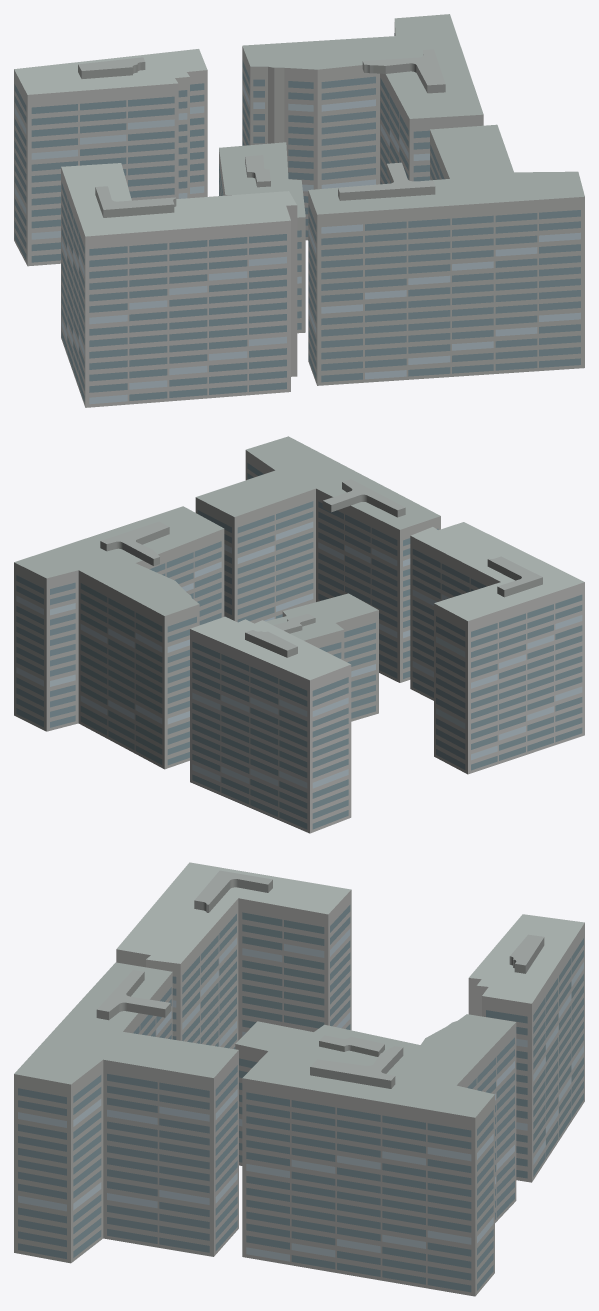
Rendered from apt-a13811001.glb.
3 views of the same model, one above another, from view 1: azimuth 30°, elevation 25°; view 2: azimuth 150°, elevation 25°; view 3: azimuth 270°, elevation 25° (orthographic). The views are drawn at different scales.
Parts seen in each view (by area): view 1: apt-a13811001; view 2: apt-a13811001; view 3: apt-a13811001.
Boxes of the visible parts, box(x1,y1,x2,y2) form: apt-a13811001: box(14, 14, 584, 407); apt-a13811001: box(14, 436, 584, 833); apt-a13811001: box(14, 862, 584, 1296).
Bounding box in the file's own units: 117 × 40 × 111.
